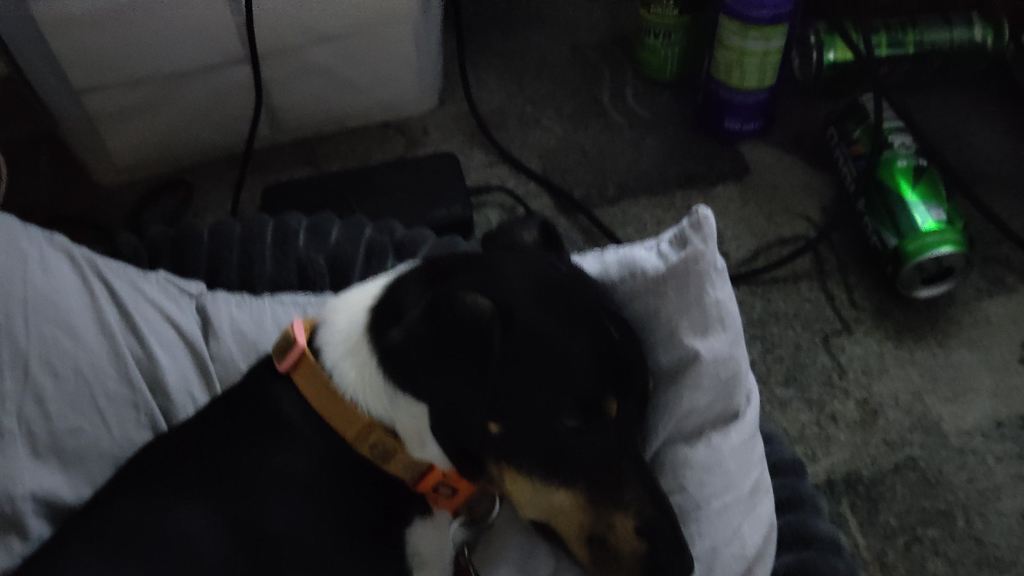Dog: (0, 197, 712, 576)
